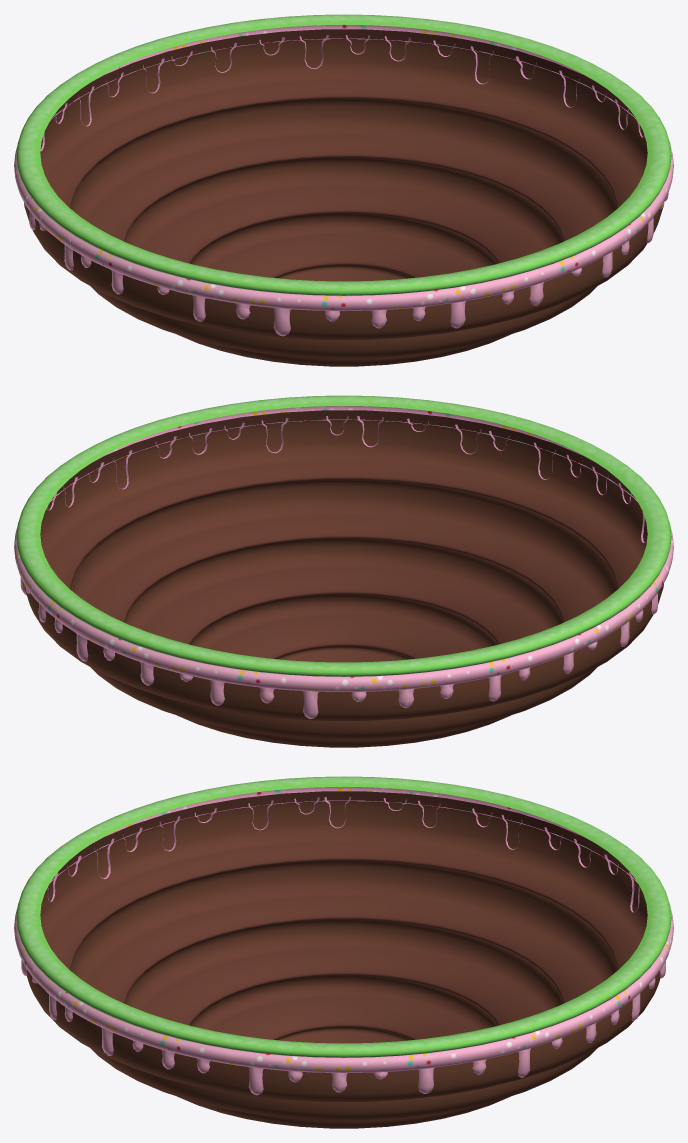
File: Hub_Island.fbx
3 renders of one model, top to bottom at view 1: azimuth 30°, elevation 25°; view 2: azimuth 150°, elevation 25°; view 3: azimuth 270°, elevation 25°, orthographic.
Visible parts, largest first — view 1: Island_Under, Island_Rim; view 2: Island_Under, Island_Rim; view 3: Island_Under, Island_Rim.
Part boxes in pixels (left/top/right/bottom): Island_Under: left=24, top=29, right=663, bottom=366; Island_Rim: left=14, top=14, right=673, bottom=336; Island_Under: left=25, top=410, right=663, bottom=747; Island_Rim: left=14, top=395, right=673, bottom=718; Island_Under: left=27, top=791, right=660, bottom=1128; Island_Rim: left=14, top=776, right=673, bottom=1095.
Size of the model in its own units: 204 by 59.52 by 204.
Materials: 1 (1 with a texture image).
